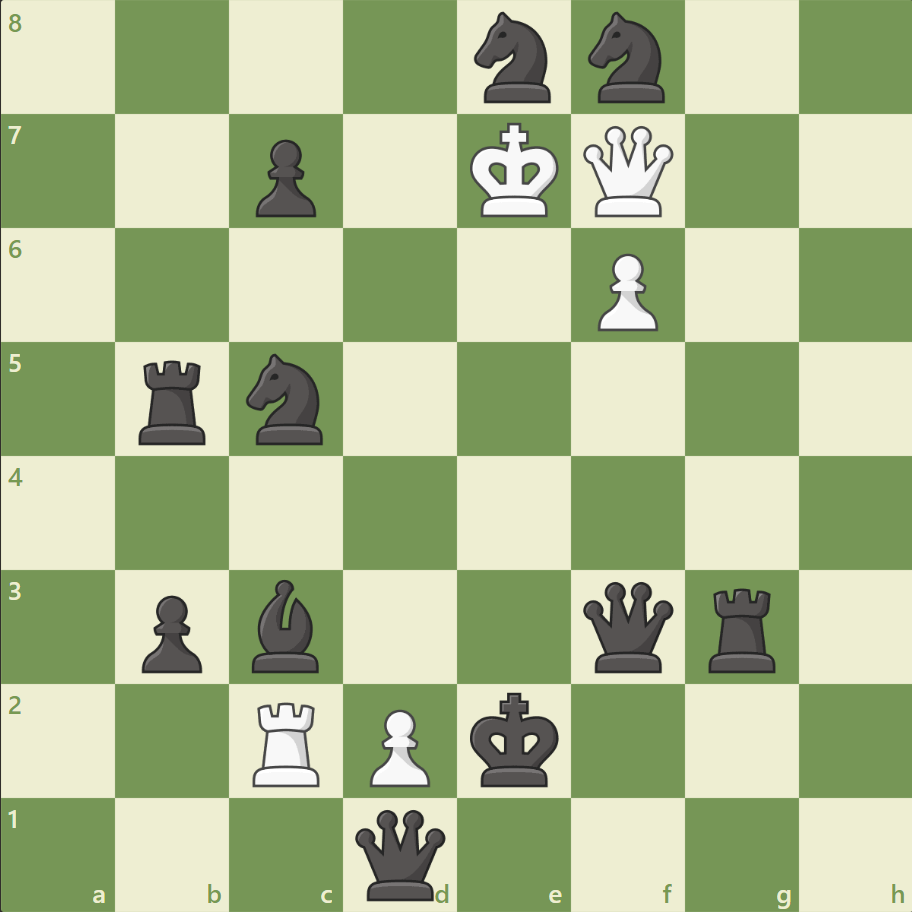K: (465, 117, 565, 225)
P: (588, 246, 662, 337), (361, 700, 435, 791)
Q: (578, 122, 677, 222)
R: (246, 693, 329, 790)
b: (244, 574, 328, 676)
k: (465, 685, 565, 793)
n: (465, 7, 562, 110), (579, 7, 676, 110), (238, 348, 335, 450)
p: (247, 132, 322, 223), (133, 586, 208, 677)
q: (578, 576, 677, 676), (351, 804, 450, 903)
r: (700, 579, 783, 676), (133, 352, 215, 449)
